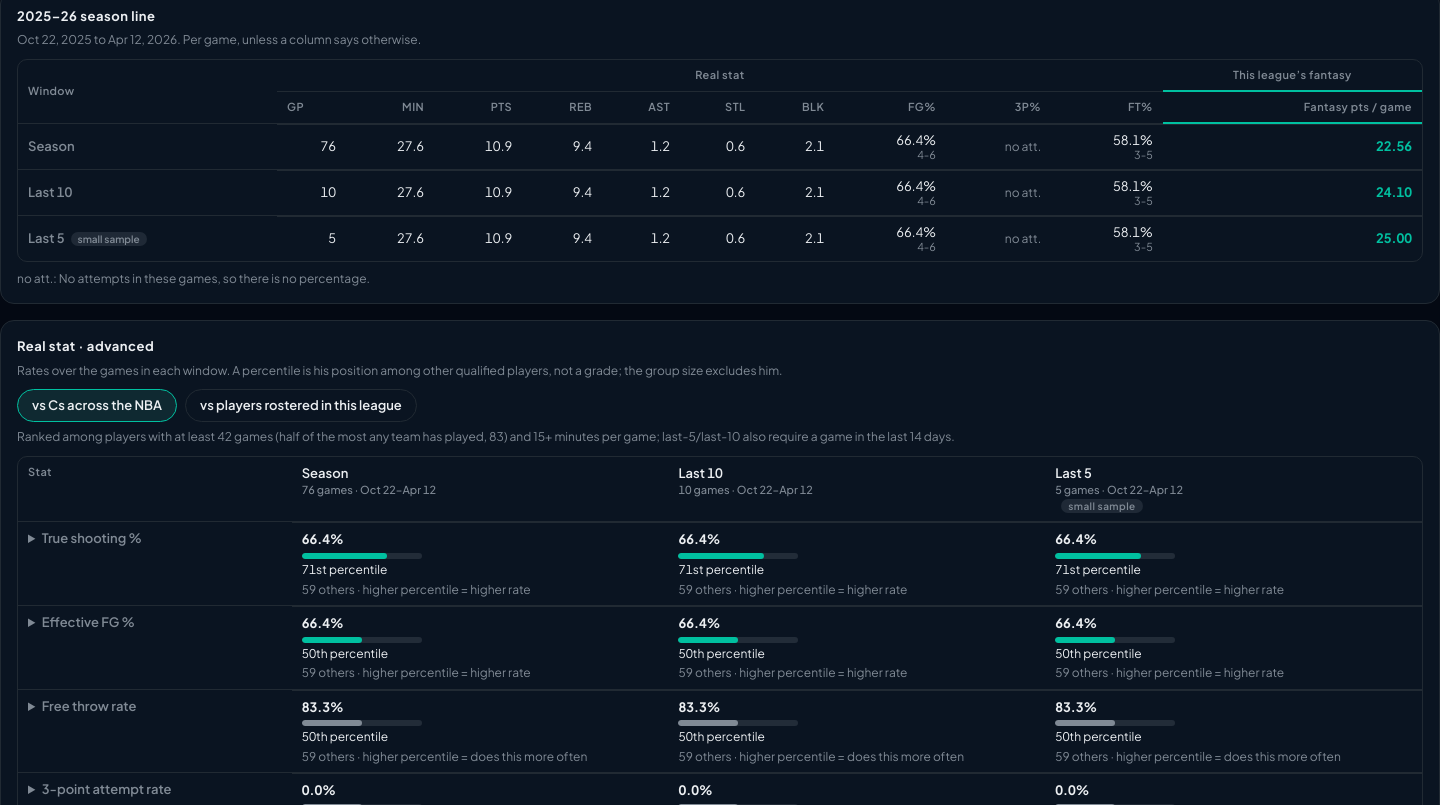
Test: PlayerPage advanced view › compares a free agent with rostered players and shows his value beside the percentile
(page scrolled)
Check: the text "66.4%" is shown 3 times, box x1=302 y1=531 x2=344 y2=547; x1=678 y1=531 x2=720 y2=547; x1=1055 y1=531 x2=1097 y2=547
Check: the text "71st percentile" is shown 3 times, box x1=302 y1=562 x2=387 y2=577; x1=678 y1=562 x2=764 y2=577; x1=1055 y1=562 x2=1141 y2=577
Click the button "vs players rostered in this league".
click(301, 406)  # box x1=185 y1=389 x2=417 y2=422
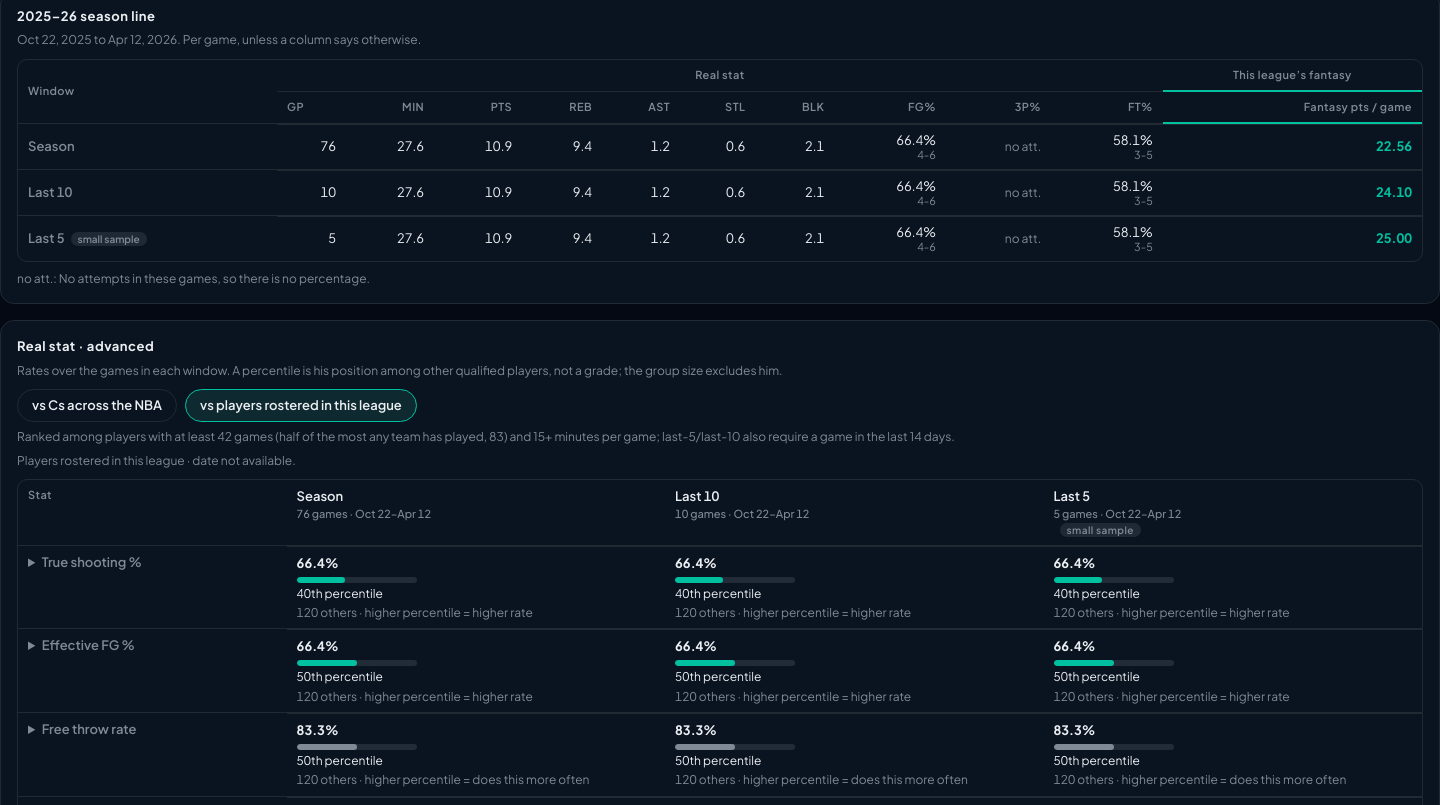
Check: the text "66.4%" is shown 3 times, box x1=297 y1=555 x2=338 y2=571; x1=675 y1=555 x2=717 y2=571; x1=1054 y1=555 x2=1095 y2=571
Check: the text "59 others" is gone
